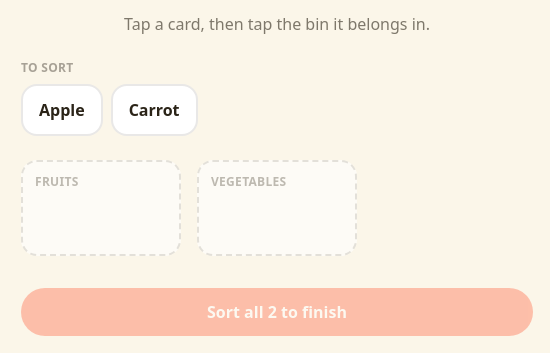
it: SortingPlayer › moves a sorted item out of the 'to sort' pile and into its bin
What coordinates should you click on to do the following:
click the button "Apple"
I would click on:
 (62, 110)
Its box is left=21, top=84, right=103, bottom=136.
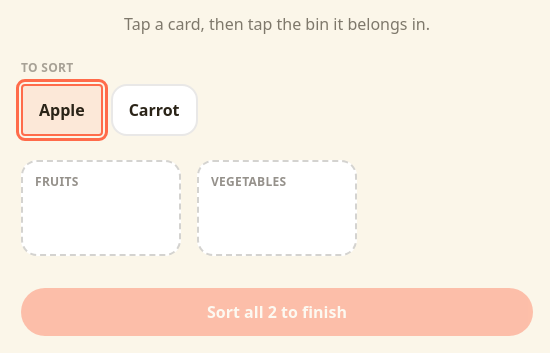
What coordinates should you click on to do the following:
click the button with aria-label "Place in Fruits"
I would click on:
 (101, 208)
Its box is left=21, top=160, right=181, bottom=256.
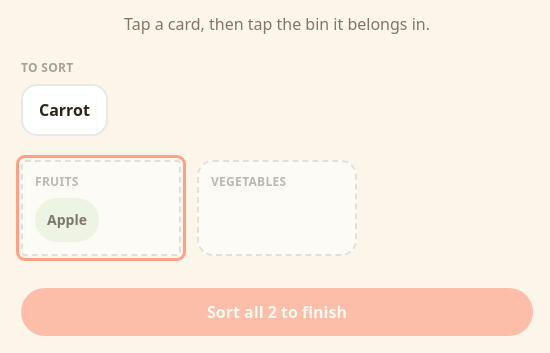
Expected: the button "Apple" is shown, left=35, top=198, right=99, bottom=242
Expected: the element "unsorted cards" no longer shows "Apple"
